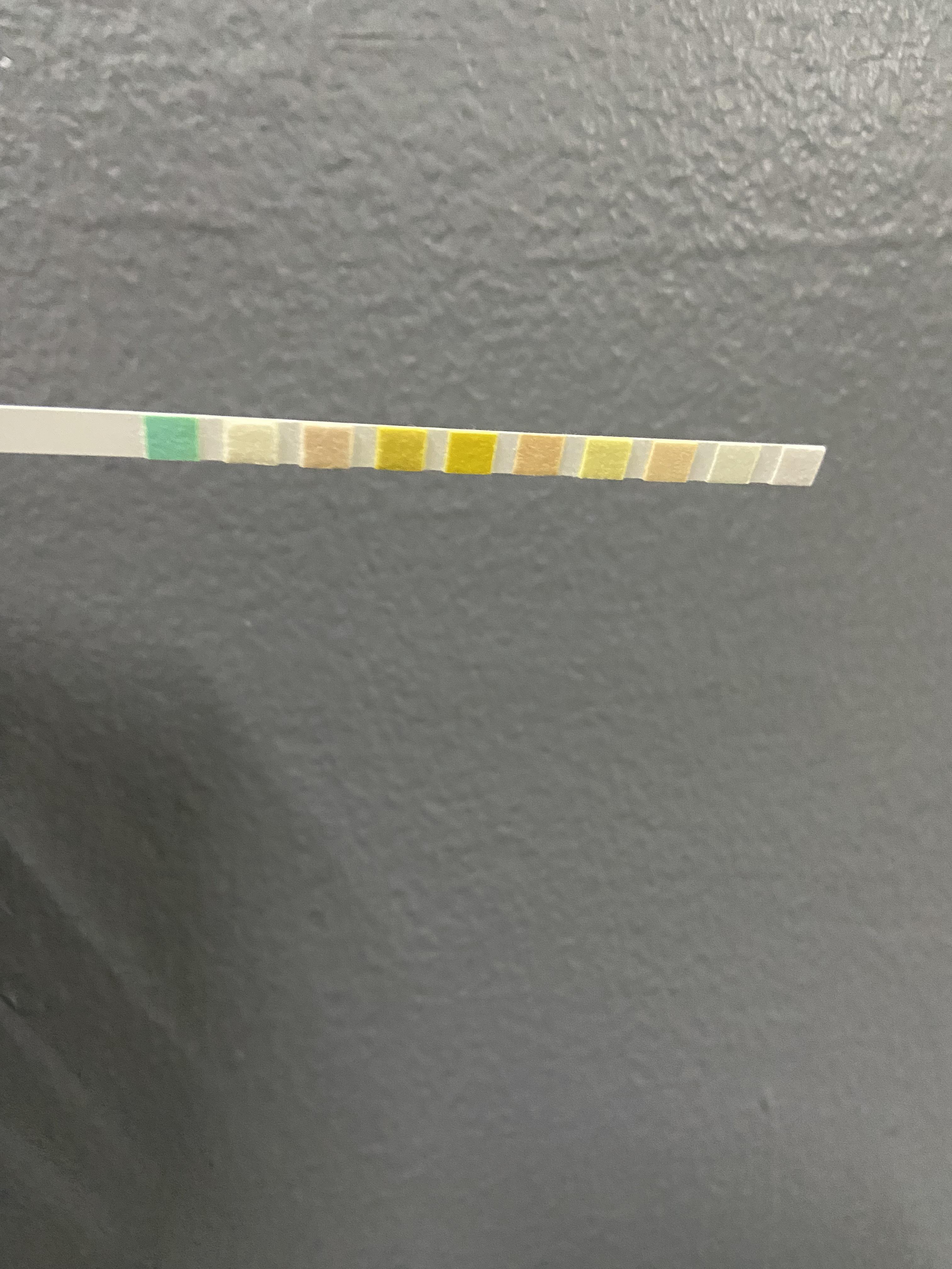Bilirubin: (229, 424, 275, 461)
Blood: (451, 436, 491, 474)
Glucose: (149, 416, 194, 460)
Ketone: (307, 428, 348, 467)
Leukocytes: (788, 449, 811, 486)
Nitrite: (722, 446, 747, 483)
Protein: (590, 440, 622, 478)
SpGravity: (382, 430, 423, 469)
Urobilinogen: (658, 445, 685, 482)
pH: (524, 437, 558, 476)
strip: (0, 405, 826, 486)
